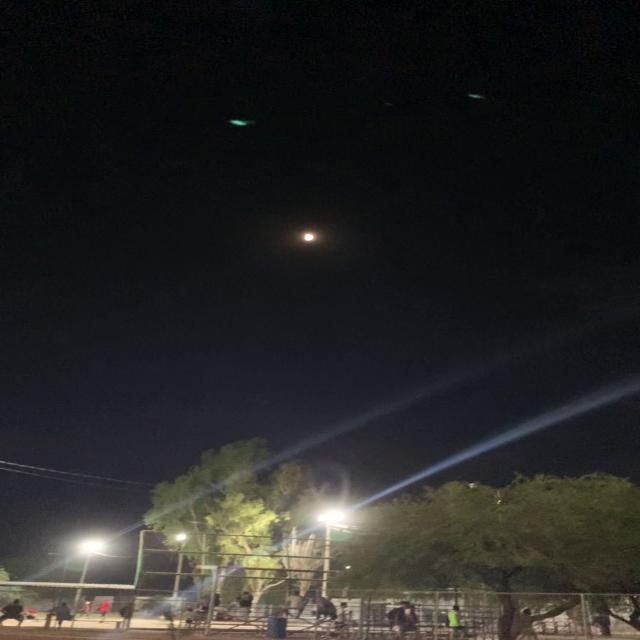moon: (293, 225, 321, 249)
